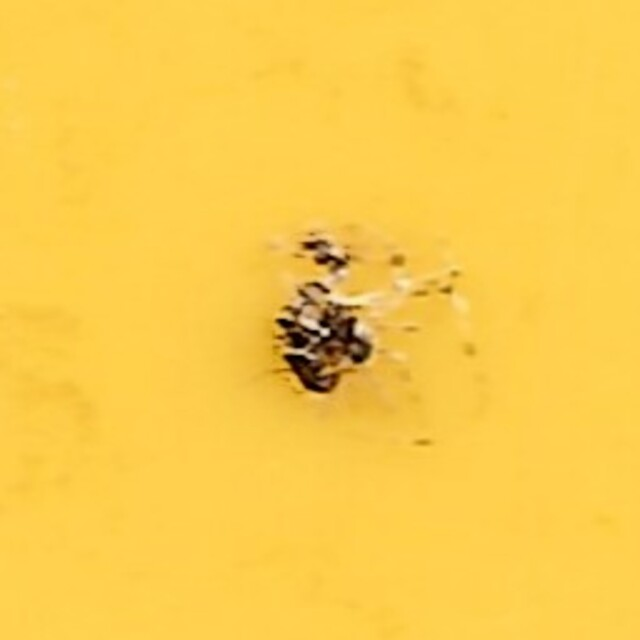Nematocera: (250, 226, 390, 414)
